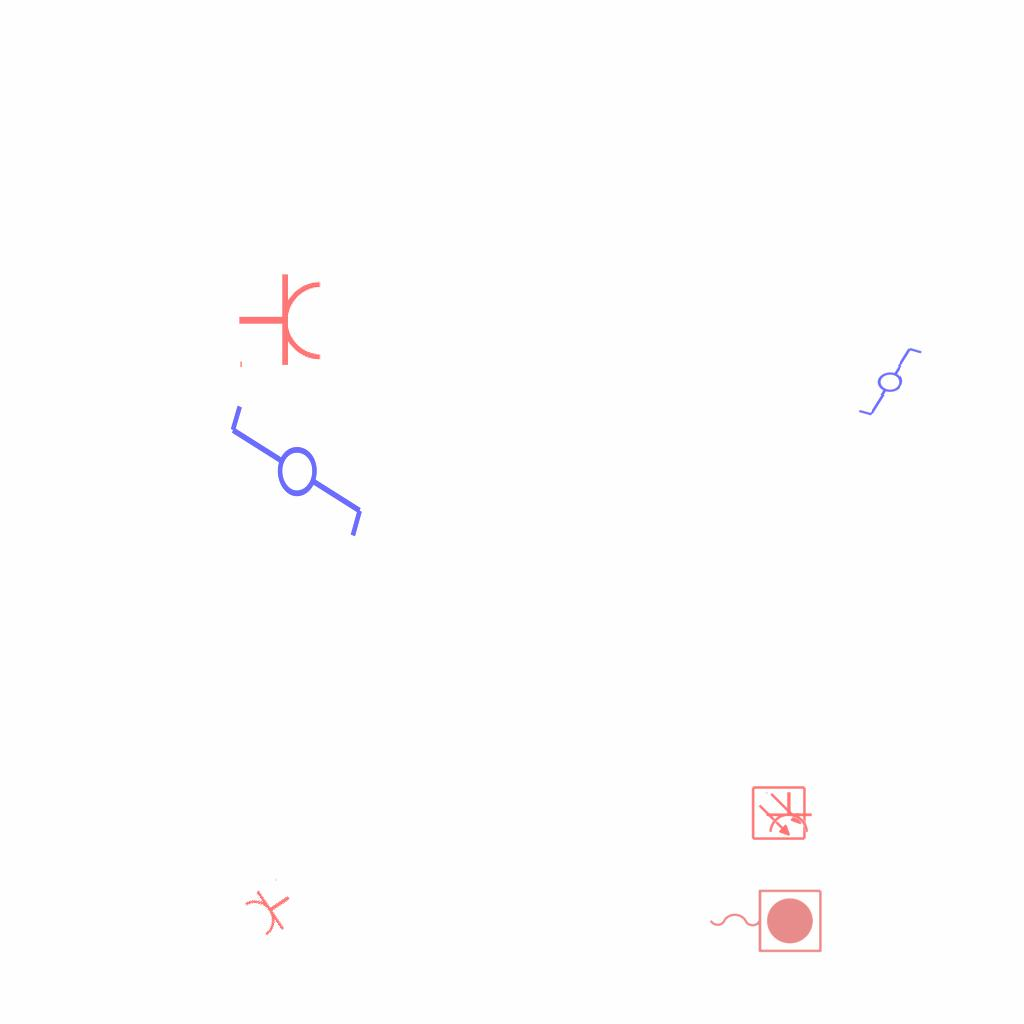RMO_Rauchmelder_optischer: (751, 785, 807, 841)
Schukosteckdose_einfach: (237, 272, 324, 372), (239, 875, 304, 941), (763, 791, 813, 834)
Wechselschalter: (223, 401, 367, 558), (845, 343, 927, 419)
Zugtaster: (704, 884, 826, 956)
